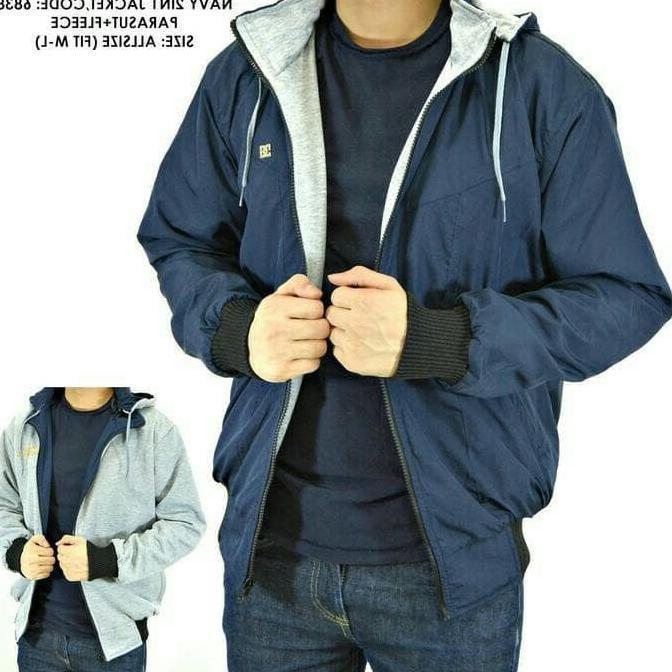jacket: (135, 0, 671, 614), (0, 391, 206, 657)
short sleeve shirt: (254, 1, 462, 555), (26, 394, 125, 637)
trousers: (218, 547, 527, 672), (17, 637, 149, 672)
